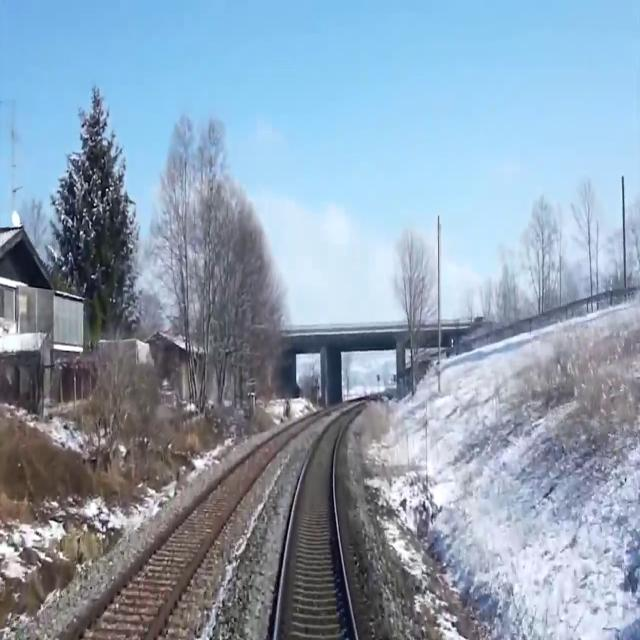rail-track: (74, 425, 298, 639), (278, 412, 353, 639)
